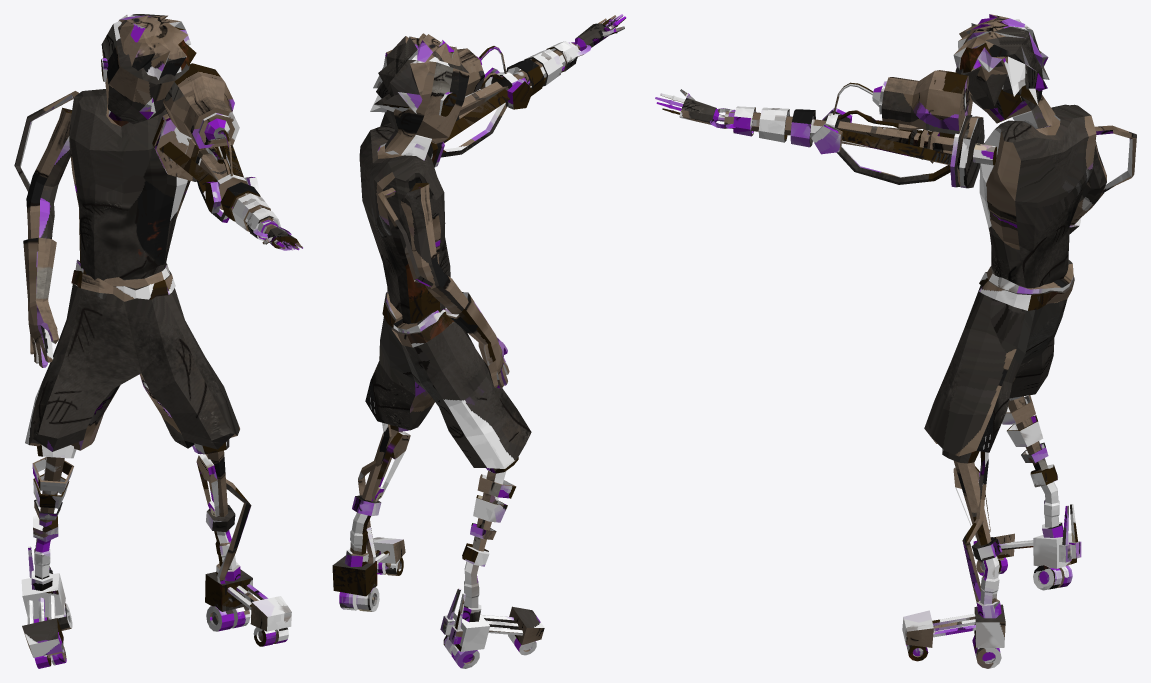
Rendered from CyborgFINALAnimation_000123.obj.
3 renders of one model, left to right at view 1: azimuth 30°, elevation 25°; view 2: azimuth 150°, elevation 25°; view 3: azimuth 270°, elevation 25°, orthographic. The views are drawn at different scales.
Parts seen in each view (by area): view 1: CyborgMesh_Cube.002; view 2: CyborgMesh_Cube.002; view 3: CyborgMesh_Cube.002.
Boxes of the visible parts, x1,y1,x2,y2 form: CyborgMesh_Cube.002: (14,14,302,668); CyborgMesh_Cube.002: (332,14,626,668); CyborgMesh_Cube.002: (655,14,1136,668).
Bounding box in the file's own units: 3.5 × 9.41 × 6.78.
